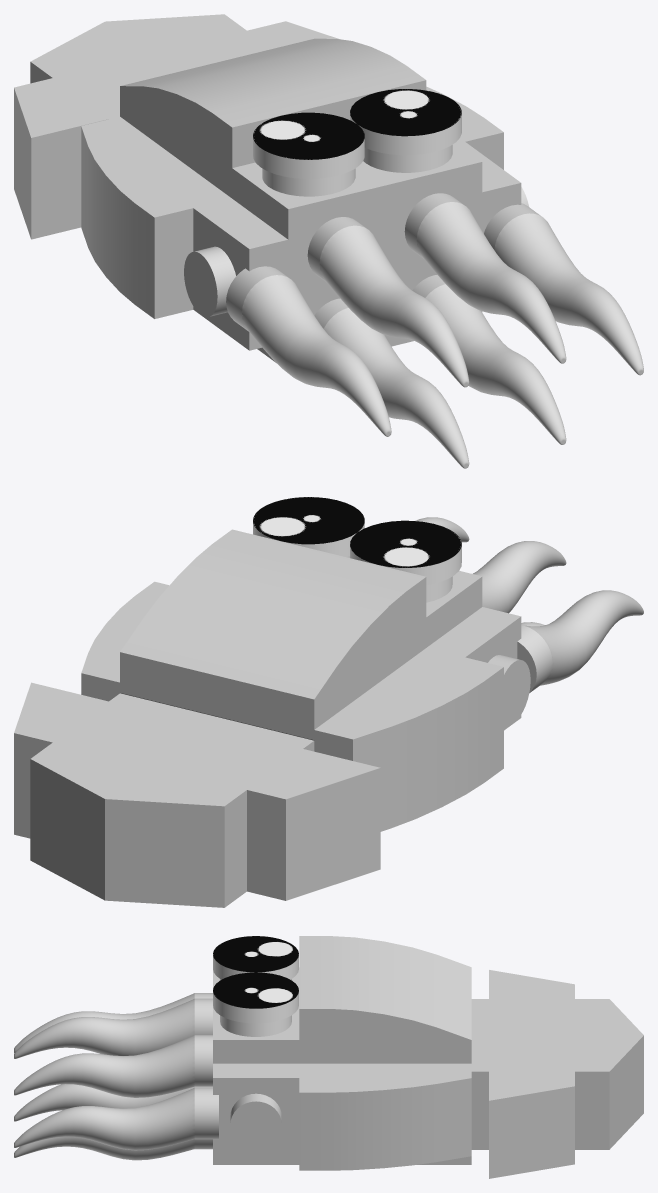
File: Octopus.fbx
3 views of the same model, one above another, from view 1: azimuth 30°, elevation 25°; view 2: azimuth 150°, elevation 25°; view 3: azimuth 270°, elevation 25° (orthographic). The views are drawn at different scales.
Parts seen in each view (by area): view 1: Slice 1x1x1.003; view 2: Slice 1x1x1.003; view 3: Slice 1x1x1.003.
Boxes of the visible parts, box(x1,y1,x2,y2) form: Slice 1x1x1.003: box(14, 14, 643, 468); Slice 1x1x1.003: box(14, 497, 643, 907); Slice 1x1x1.003: box(14, 936, 643, 1178).
Size of the model in its own units: 288 by 172 by 585.
